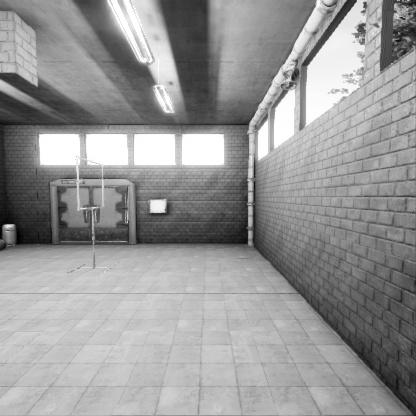gate: (75, 207, 104, 262)
